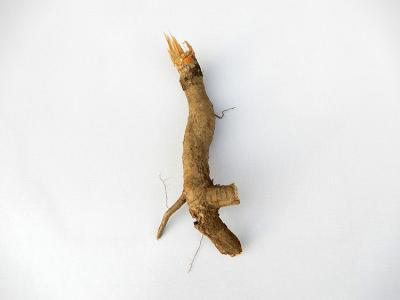Root: (157, 33, 242, 257)
